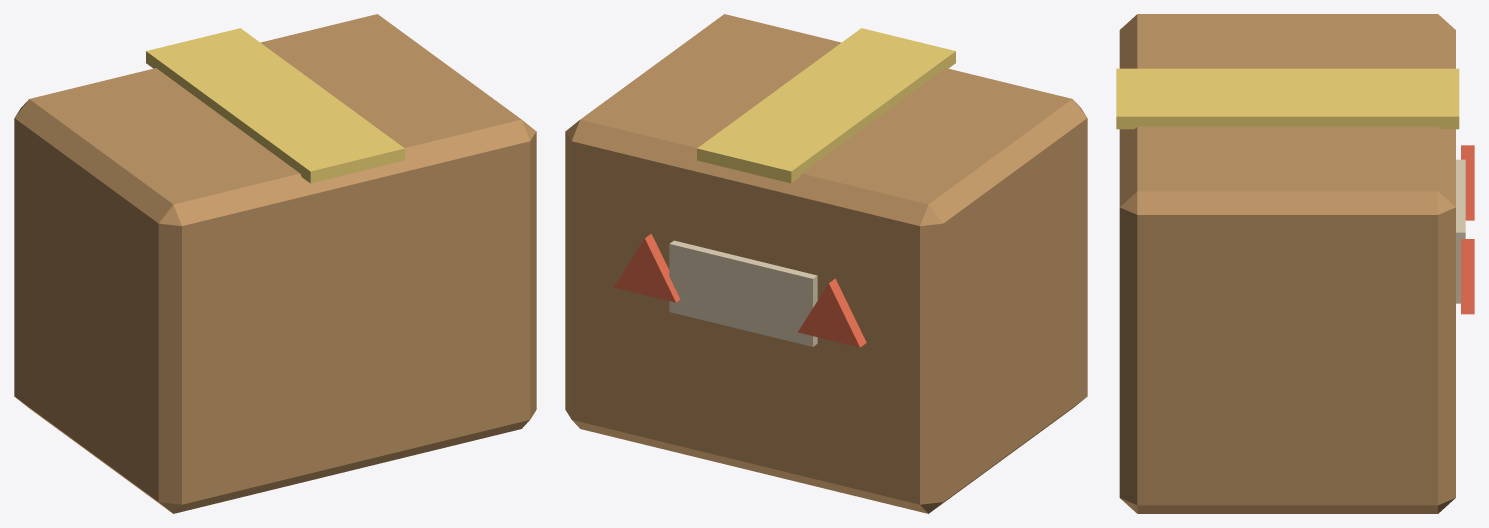
The model's file is sm_cargo_package_fragile.glb.
3 views of the same model, side by side, from view 1: azimuth 30°, elevation 25°; view 2: azimuth 150°, elevation 25°; view 3: azimuth 270°, elevation 25° (orthographic). The views are drawn at different scales.
Visible parts, largest first — view 1: CargoBox, PackingTape; view 2: CargoBox, PackingTape, ShippingLabel, FragileMarker, FragileMarker.001; view 3: CargoBox, PackingTape, ShippingLabel, FragileMarker.001, FragileMarker.
Boxes of the visible parts, x1,y1,x2,y2 form: CargoBox: [14, 14, 536, 513]; PackingTape: [146, 28, 404, 183]; CargoBox: [565, 14, 1087, 513]; PackingTape: [697, 28, 955, 183]; ShippingLabel: [669, 240, 817, 346]; FragileMarker: [798, 278, 866, 347]; FragileMarker.001: [613, 233, 680, 302]; CargoBox: [1119, 14, 1455, 513]; PackingTape: [1116, 68, 1459, 129]; ShippingLabel: [1456, 159, 1465, 303]; FragileMarker.001: [1461, 239, 1474, 314]; FragileMarker: [1461, 145, 1474, 220].
Bounding box in the file's own units: 1.15 × 0.9275 × 0.906.
